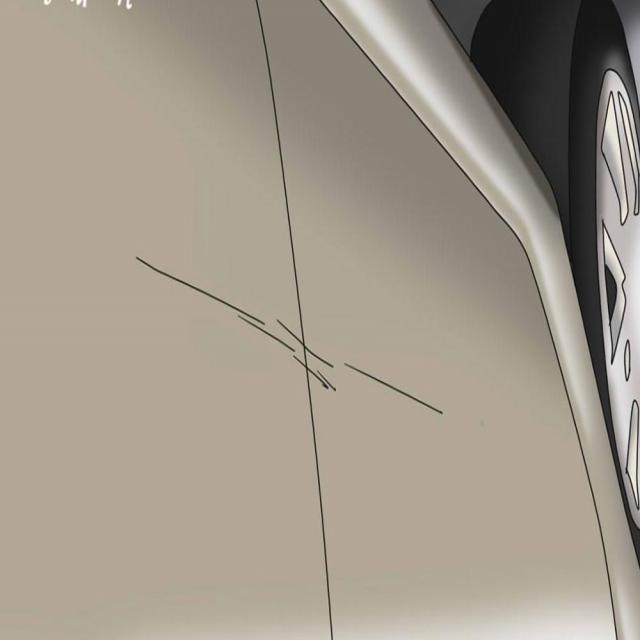scratch: (128, 250, 336, 408), (339, 347, 454, 422)
